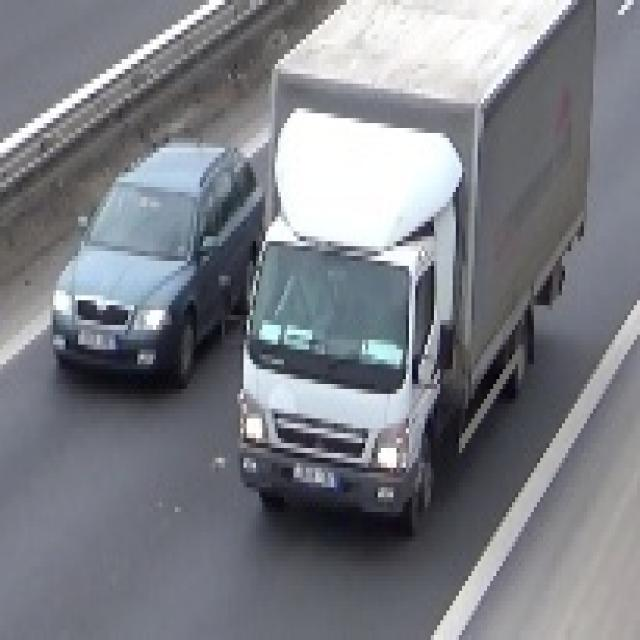car: (43, 132, 270, 382)
truck: (231, 0, 593, 512)
